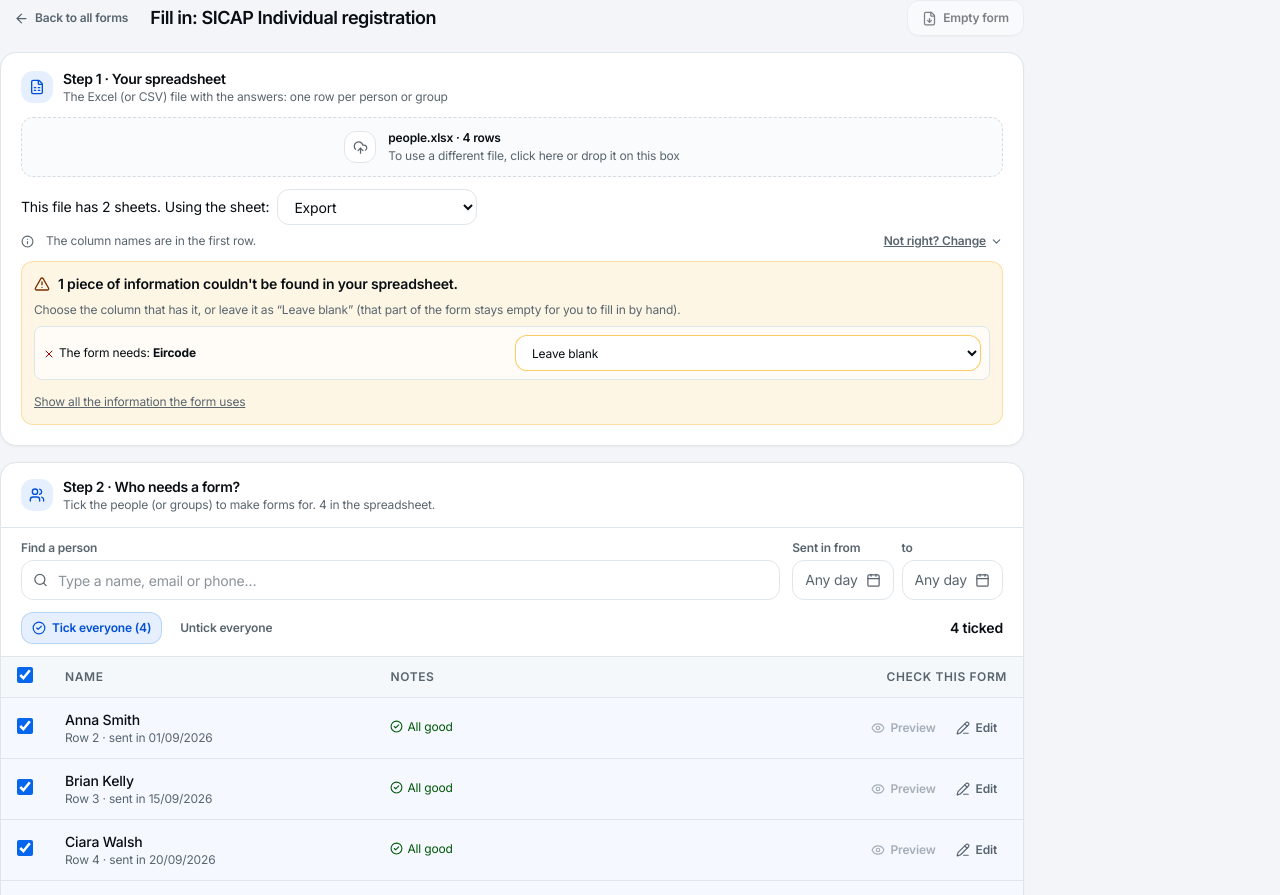
Test case: FillView › a sheet without column names › takes the names from the sheet it came from, and says so
Select "Ciara’s people" in the dropdown labelled "sheet" at (377, 207), box top-left (277, 189), bottom-right (477, 225)
(page scrolled)
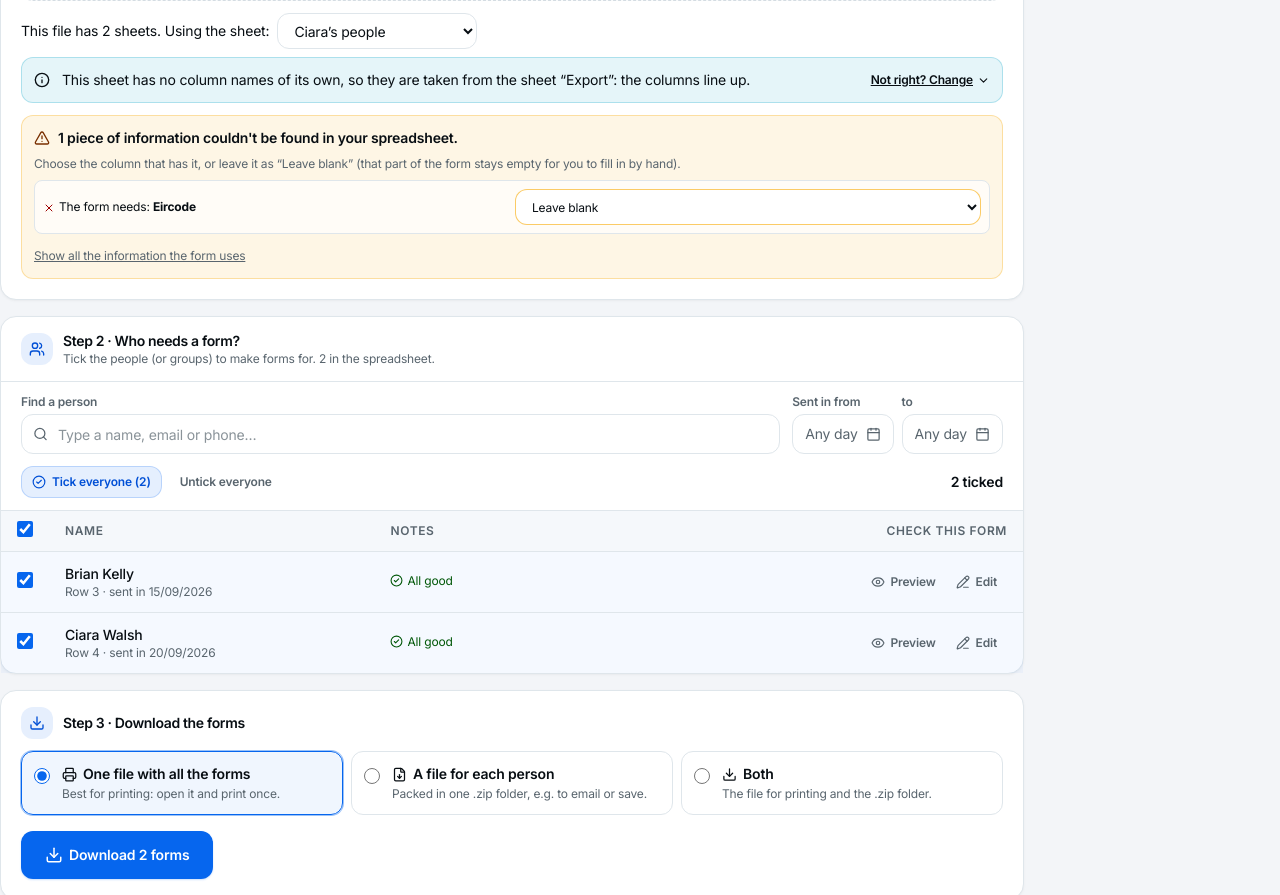
Check: the text with test id "names-note" shows "taken from the sheet “Export”", box top-left (62, 71), bottom-right (750, 88)
Check: the text "Brian Kelly" is shown, box top-left (65, 565), bottom-right (134, 582)
Check: the button "Download 2 forms" is shown, box top-left (21, 831), bottom-right (213, 879)
